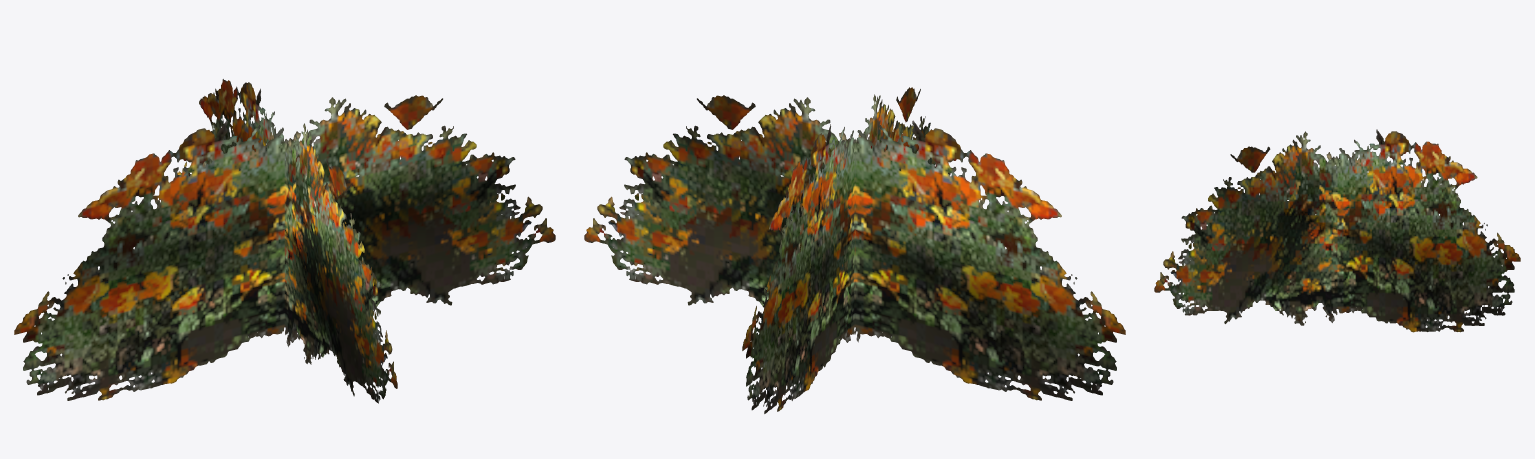
Rendered from flow_poppies_lg_l1.fbx.
The picture shows the model from 3 angles, left to right: view 1: azimuth 30°, elevation 25°; view 2: azimuth 150°, elevation 25°; view 3: azimuth 270°, elevation 25°; orthographic projection. The views are drawn at different scales.
Parts seen in each view (by area): view 1: mesh_node; view 2: mesh_node; view 3: mesh_node.
Part boxes in pixels (box(x1,y1,x2,y2)): mesh_node: box(14, 79, 555, 403); mesh_node: box(584, 87, 1125, 413); mesh_node: box(1154, 129, 1520, 332).
Size of the model in its own units: 1.59 by 0.7484 by 1.15.
